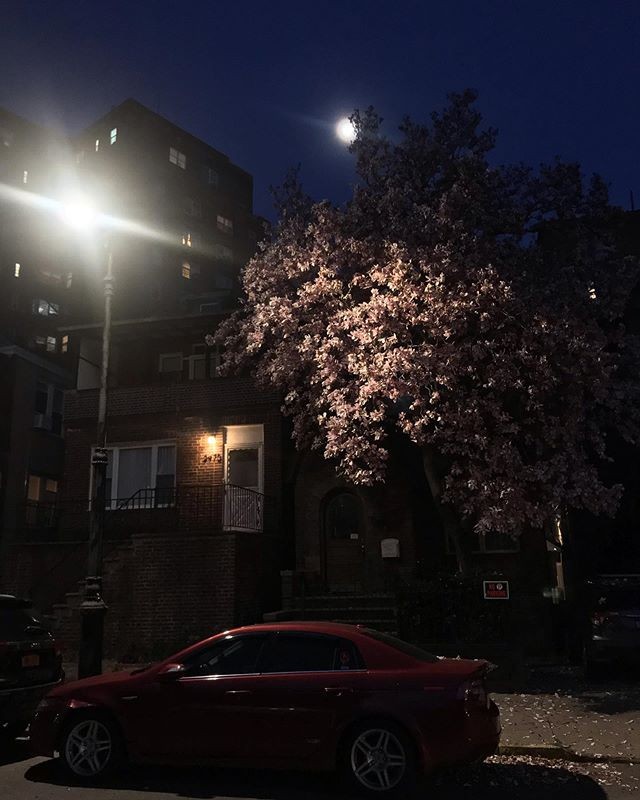building: (76, 371, 533, 639), (1, 130, 82, 664), (84, 111, 253, 319)
car: (10, 625, 507, 791)
tree: (260, 119, 640, 537)
